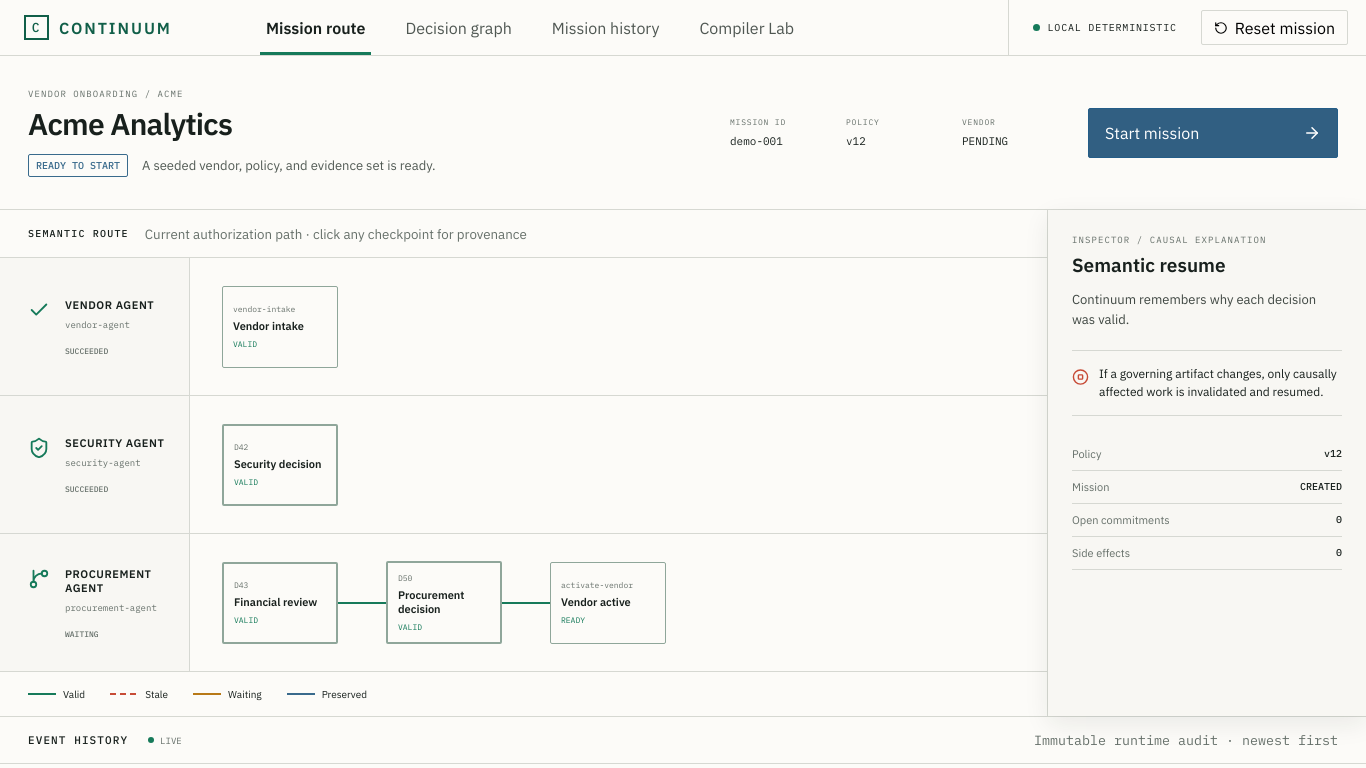
Test: App › retries mission history loading in place
Click the button "Mission history" at (606, 28), box [546,0,665,55]
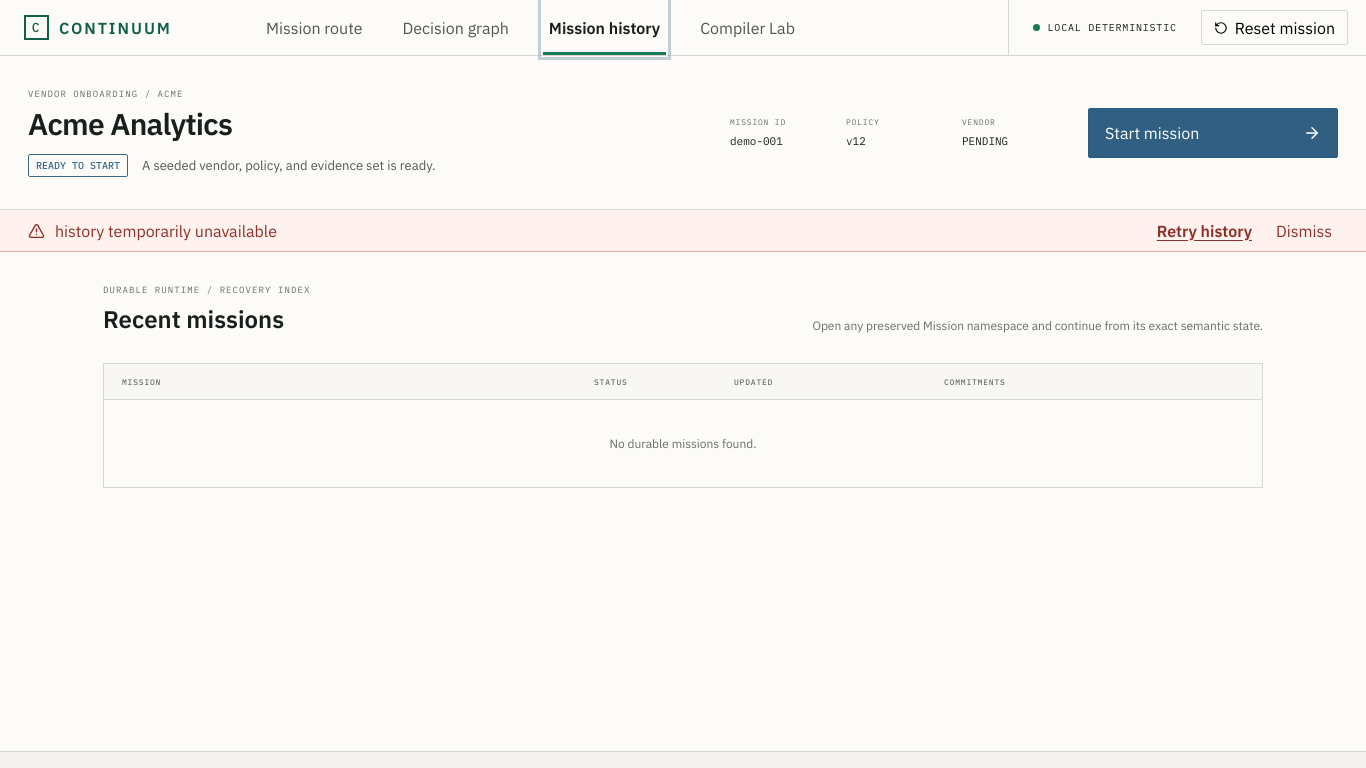
expect the text "history temporarily unavailable" is shown: met, box [55,220,277,240]
Click the button "Retry history" at (1204, 230), box [1151,220,1258,242]
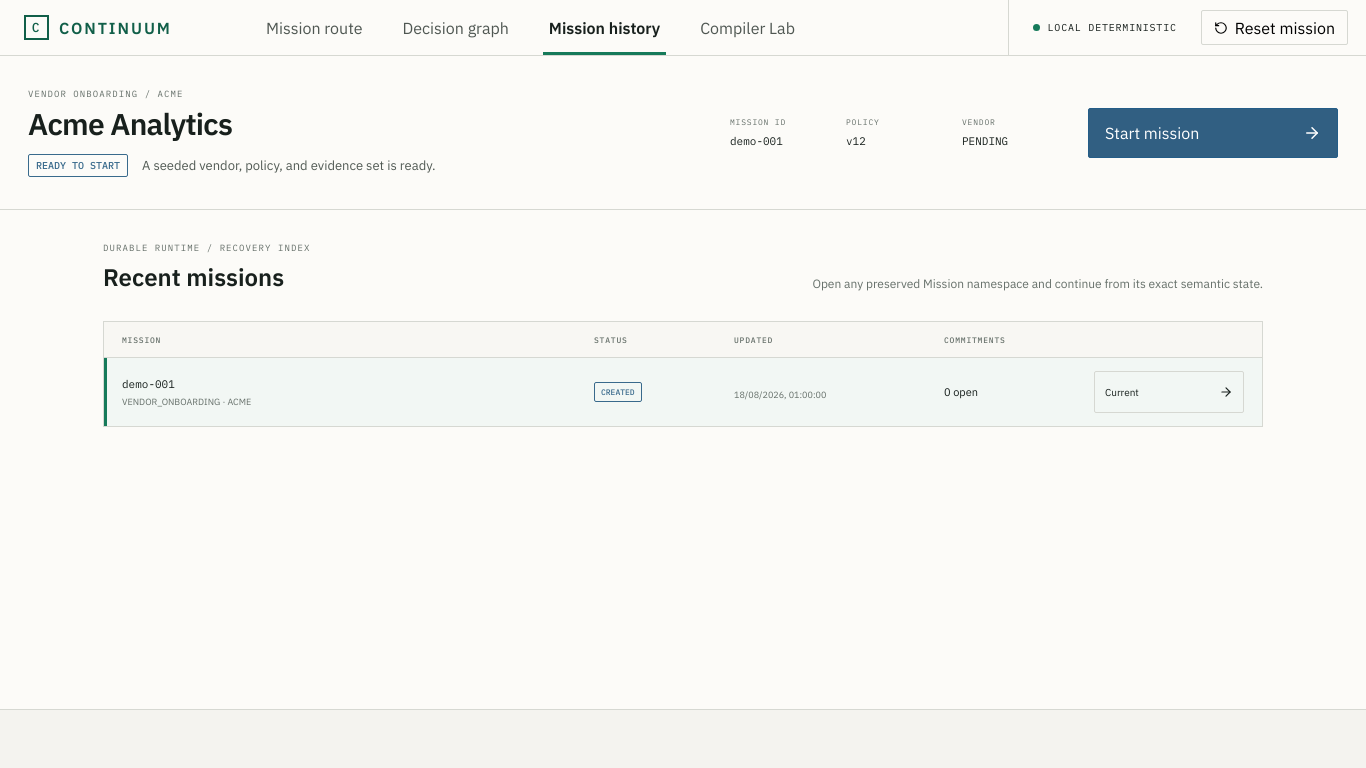
expect the button with aria-label "Open mission demo-001" is shown: met, box [1094,371,1244,413]
